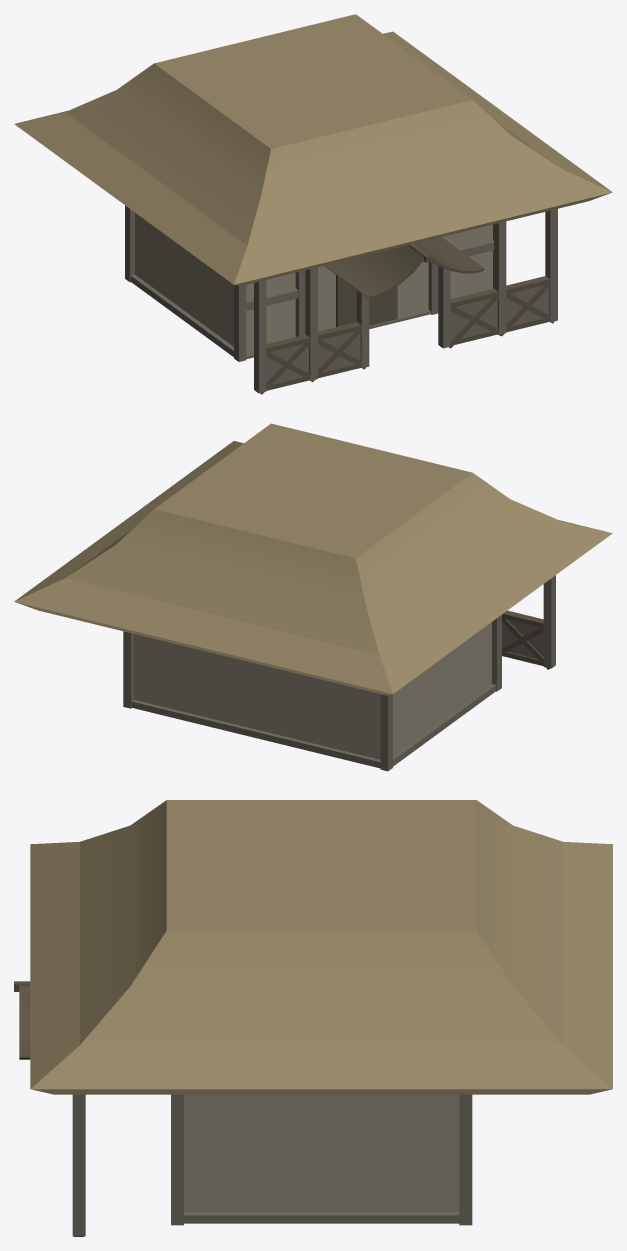
File: House_6.fbx
3 views of the same model, one above another, from view 1: azimuth 30°, elevation 25°; view 2: azimuth 150°, elevation 25°; view 3: azimuth 270°, elevation 25° (orthographic). The views are drawn at different scales.
Parts seen in each view (by area): view 1: House_6; view 2: House_6; view 3: House_6.
Boxes of the visible parts, <box> form: House_6: <box>14,14,612,394</box>; House_6: <box>14,423,612,771</box>; House_6: <box>14,800,612,1236</box>.
Bounding box in the file's own units: 1571 × 829 × 1623.
